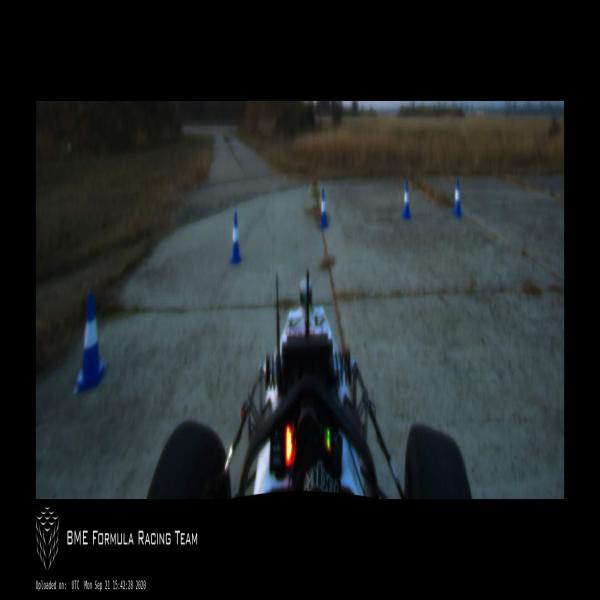blue_cone: (72, 295, 108, 395), (230, 212, 241, 262), (452, 180, 462, 215), (402, 182, 411, 219), (320, 190, 328, 228)
